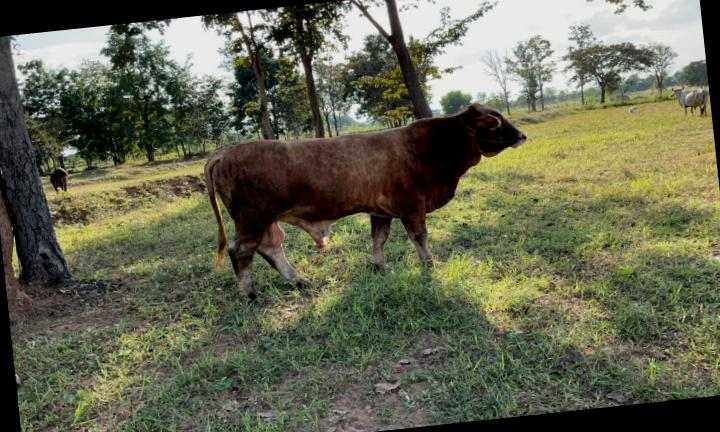Charolais: (204, 103, 526, 297)
